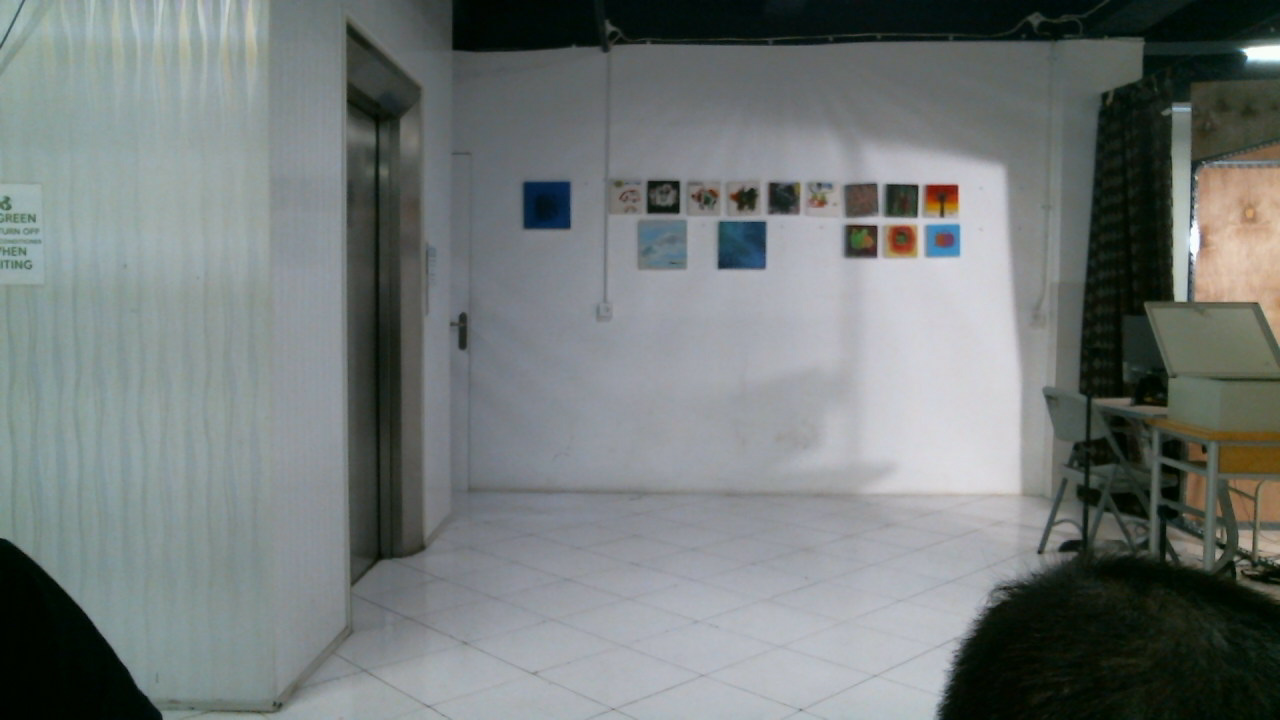bg: (129, 5, 1165, 558)
